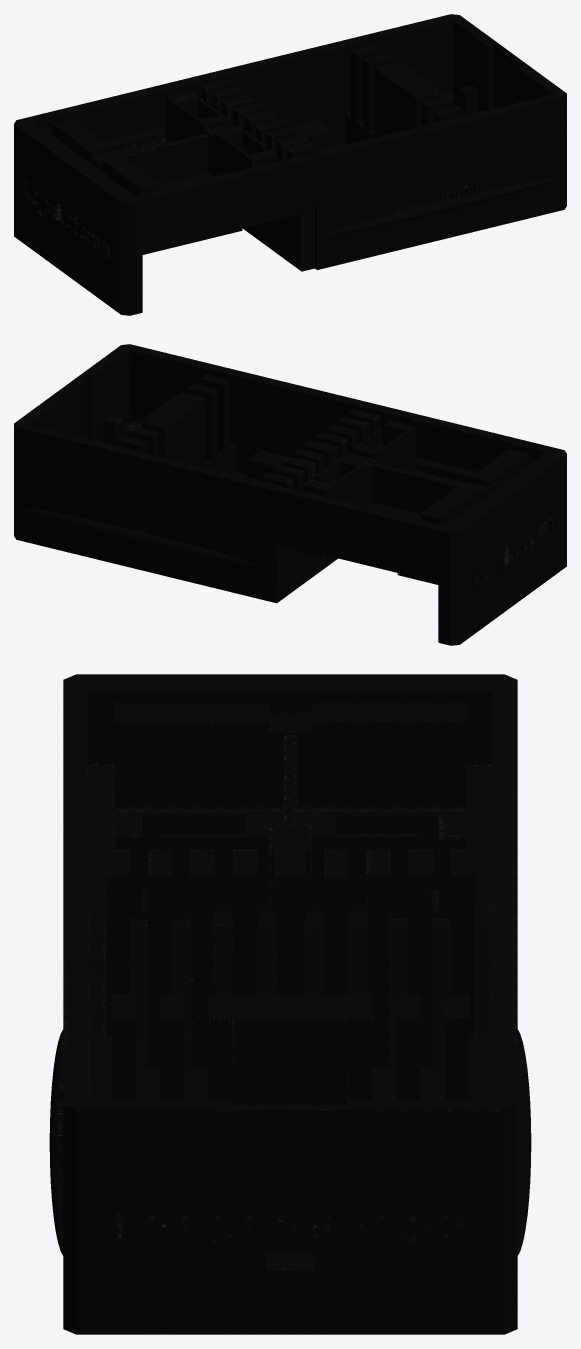
Rendered from LeguLeteron_Main_Control_Case.fbx.
3 renders of one model, top to bottom at view 1: azimuth 30°, elevation 25°; view 2: azimuth 150°, elevation 25°; view 3: azimuth 270°, elevation 25°, orthographic. The views are drawn at different scales.
Parts seen in each view (by area): view 1: node_id818; view 2: node_id818; view 3: node_id818.
Boxes of the visible parts, box(x1,y1,x2,y2) form: node_id818: box(14, 14, 566, 315); node_id818: box(14, 344, 566, 645); node_id818: box(49, 674, 531, 1334).
Size of the model in its own units: 2.37 by 0.5641 by 1.09.
Materials: 1 (1 with a texture image).
